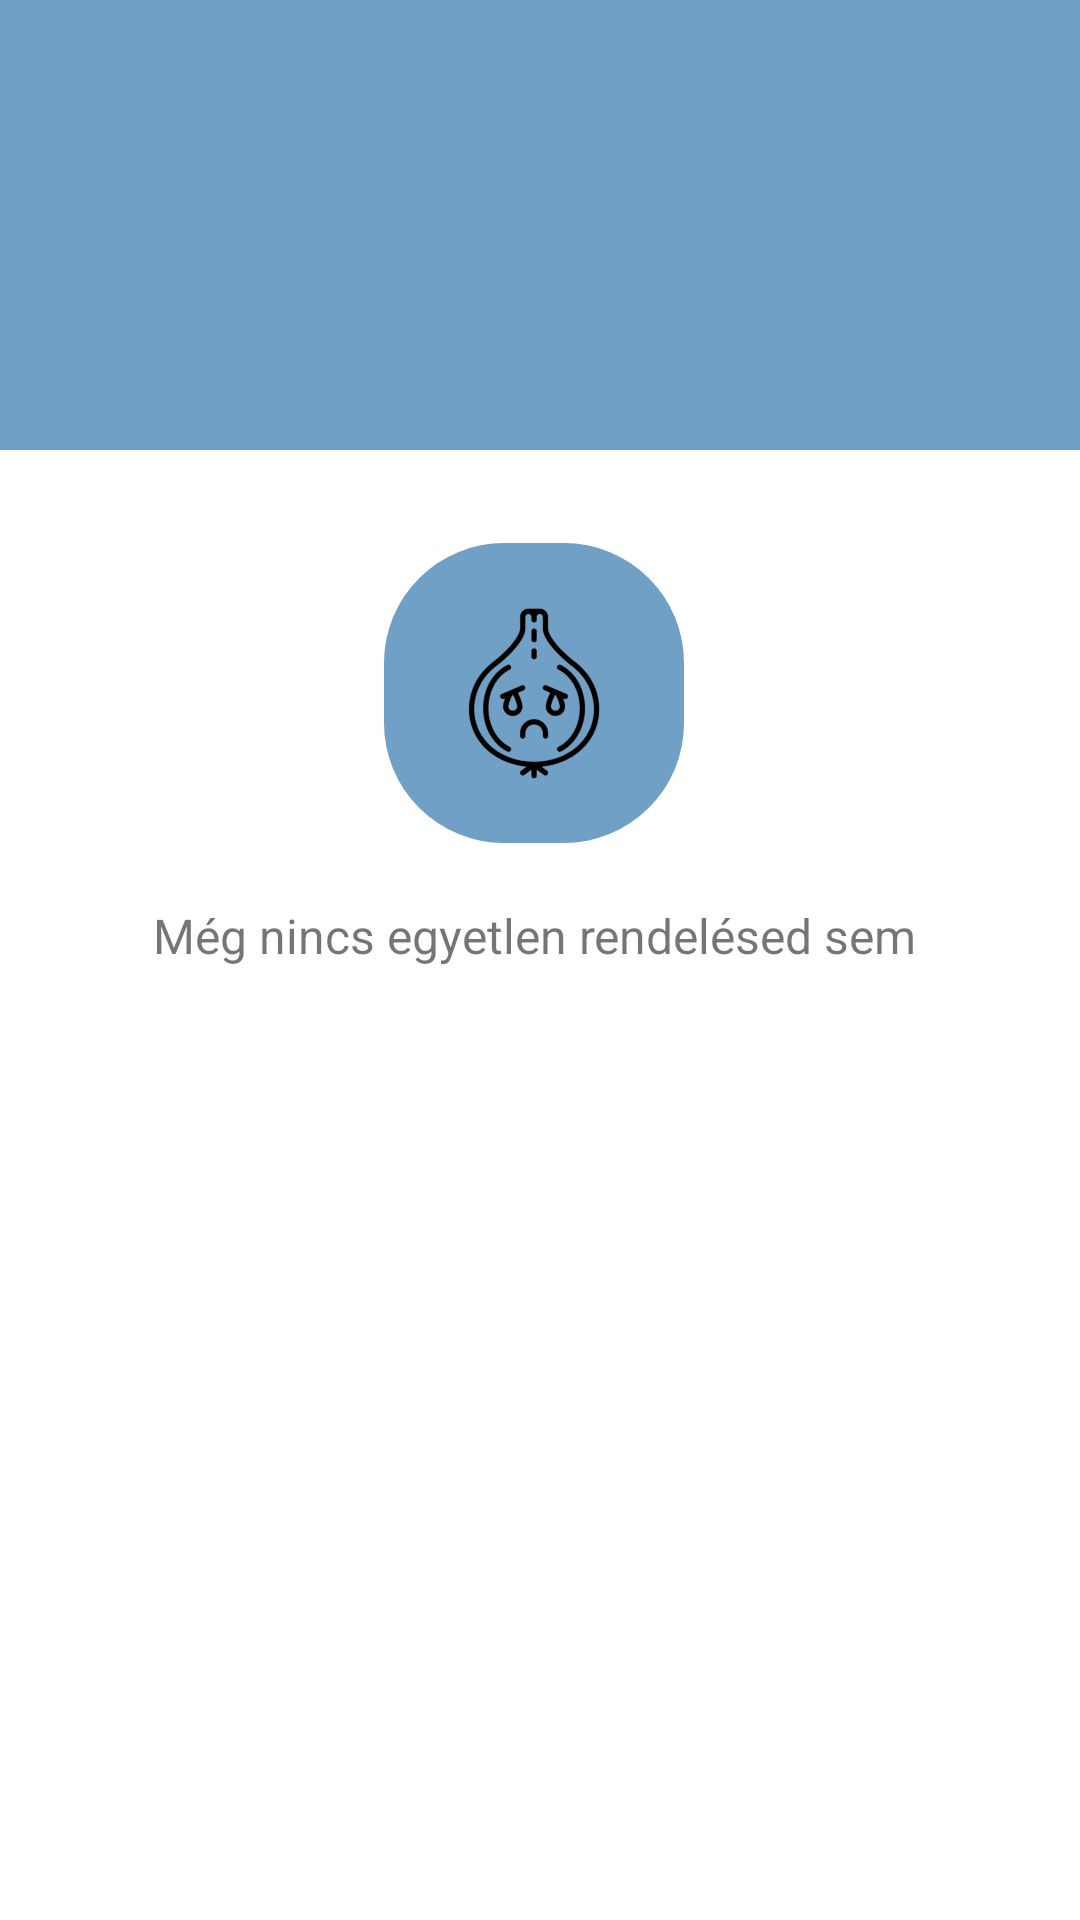

Screen size 1080w x 1920h. Icon name, then its box in pixels as bbox=(x1, y1, x2, y2):
nincs termek: bbox=(384, 543, 684, 843)
